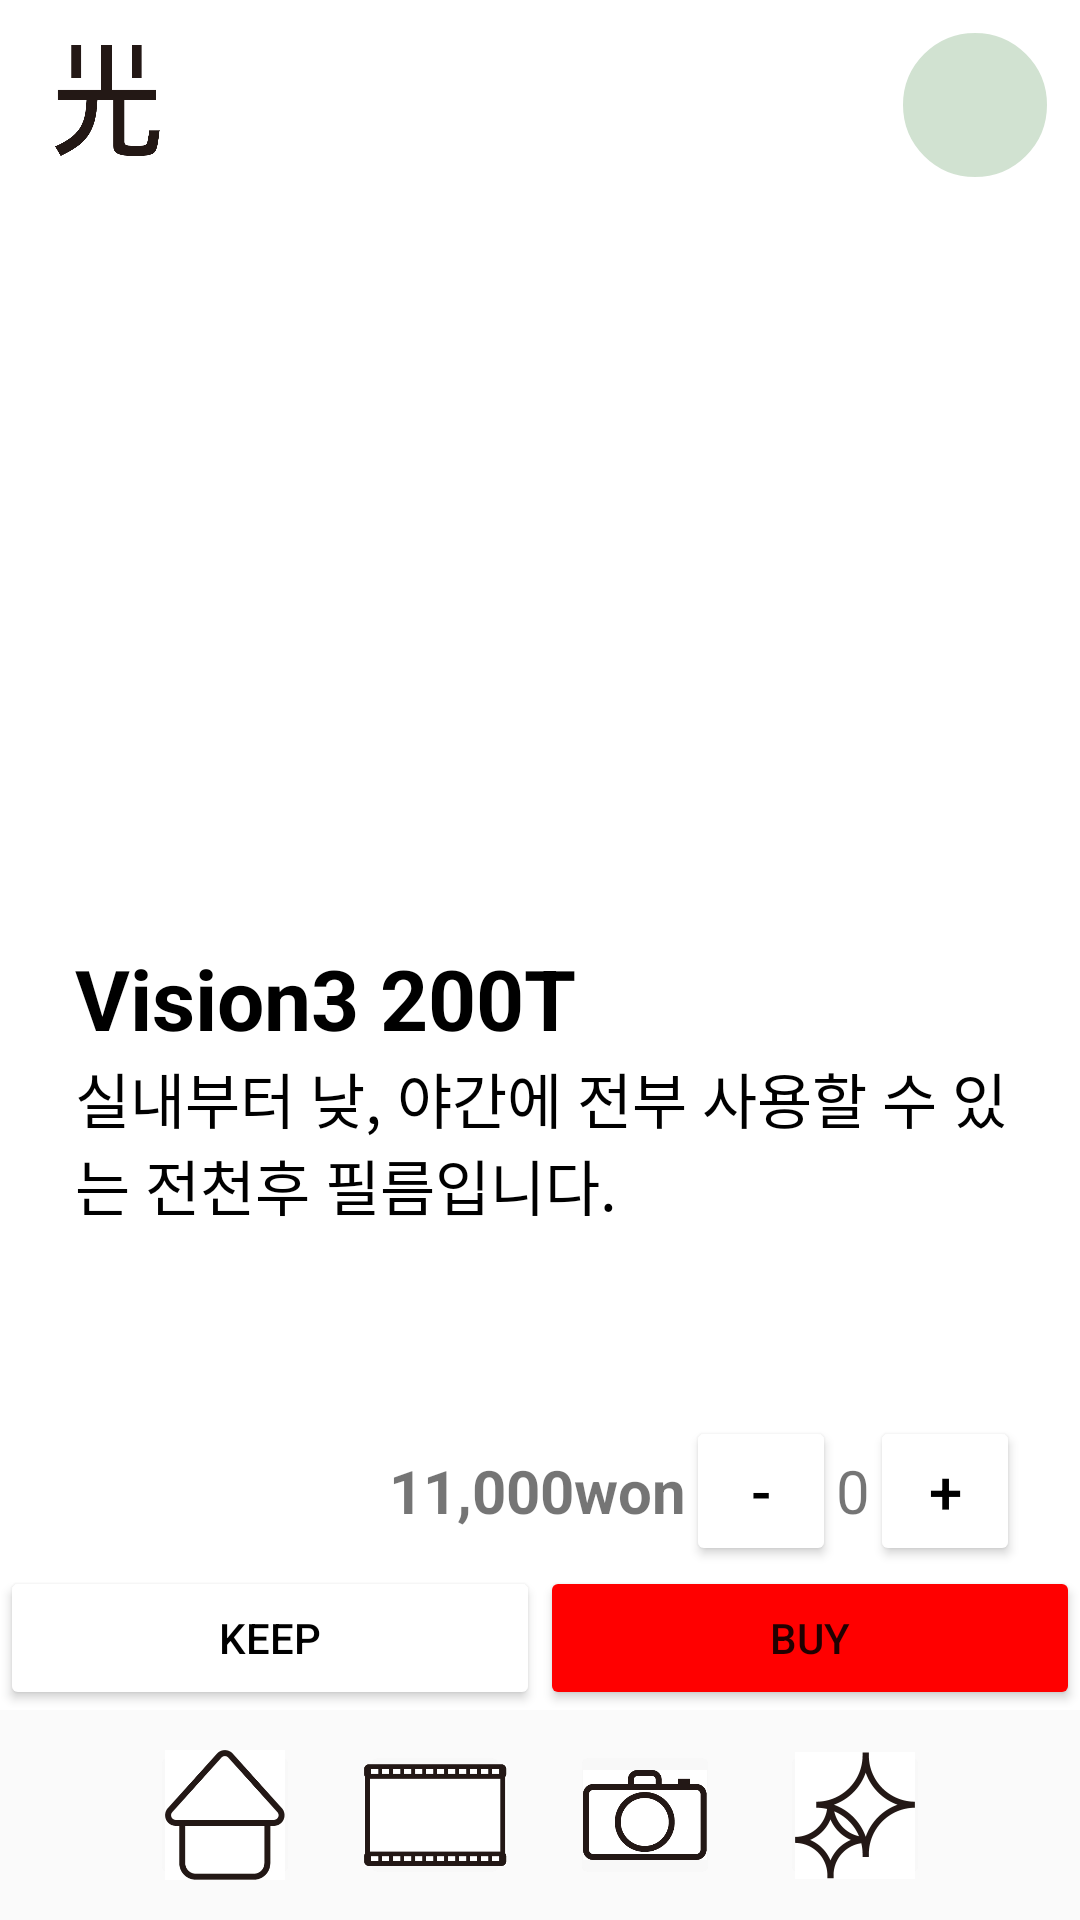

Icon click points for this 1080 × 1920 phone screenshot, format [x,y]:
camera: [645,1815]
film: [435,1815]
home: [225,1815]
